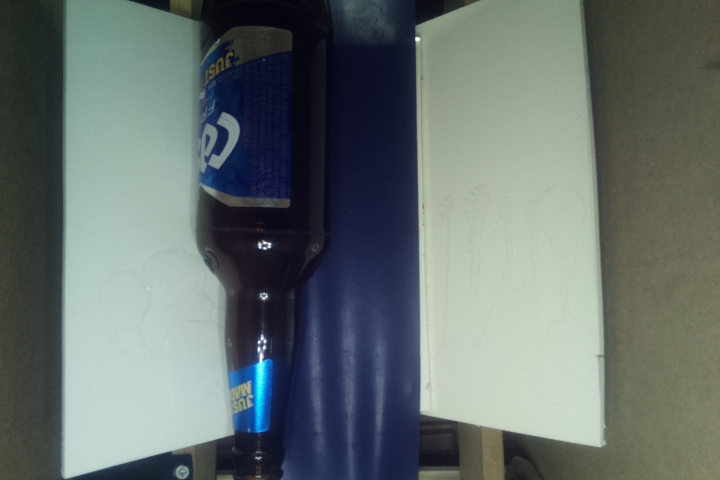makju: (198, 2, 329, 480)
